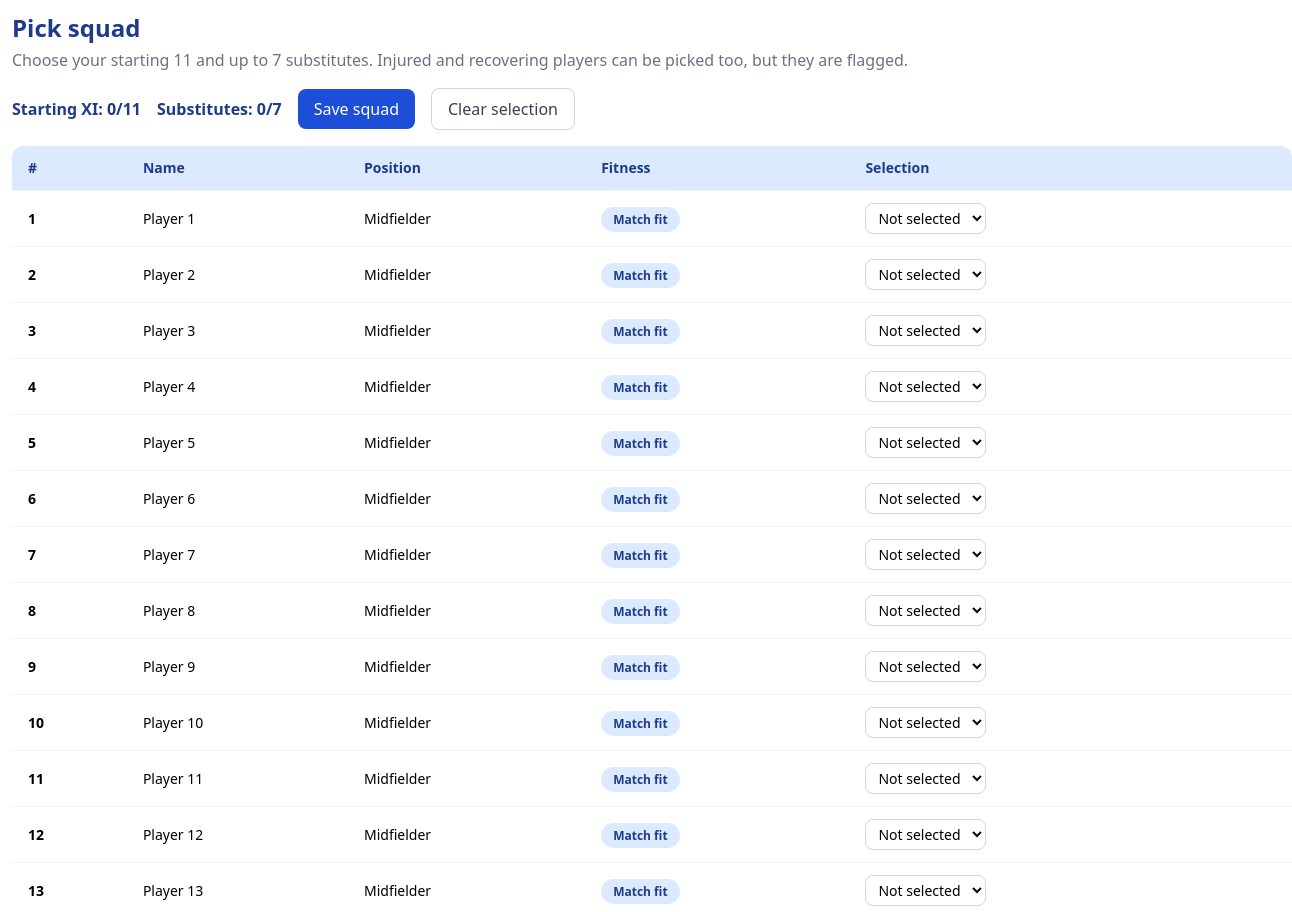
a player moves between starting and substitute
This screenshot has width=1292, height=912.
Expected: the text "Player 1" is shown, [127, 190, 348, 246]
Select "Starting XI" in the dropdown named "Selection for Player 1" at (926, 218), box [865, 203, 986, 234]
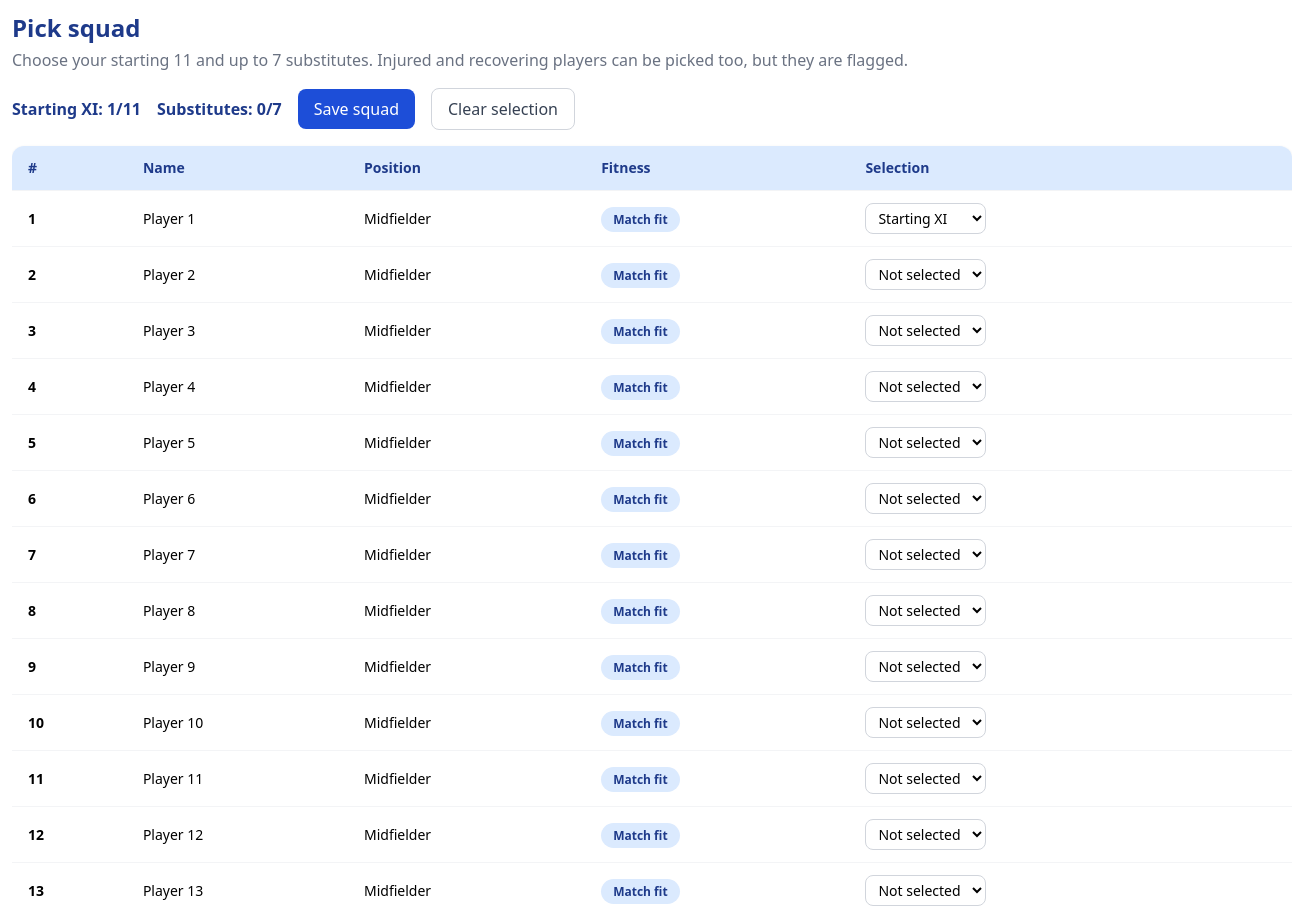
Select "Substitute" in the dropdown named "Selection for Player 1" at (926, 218), box [865, 203, 986, 234]
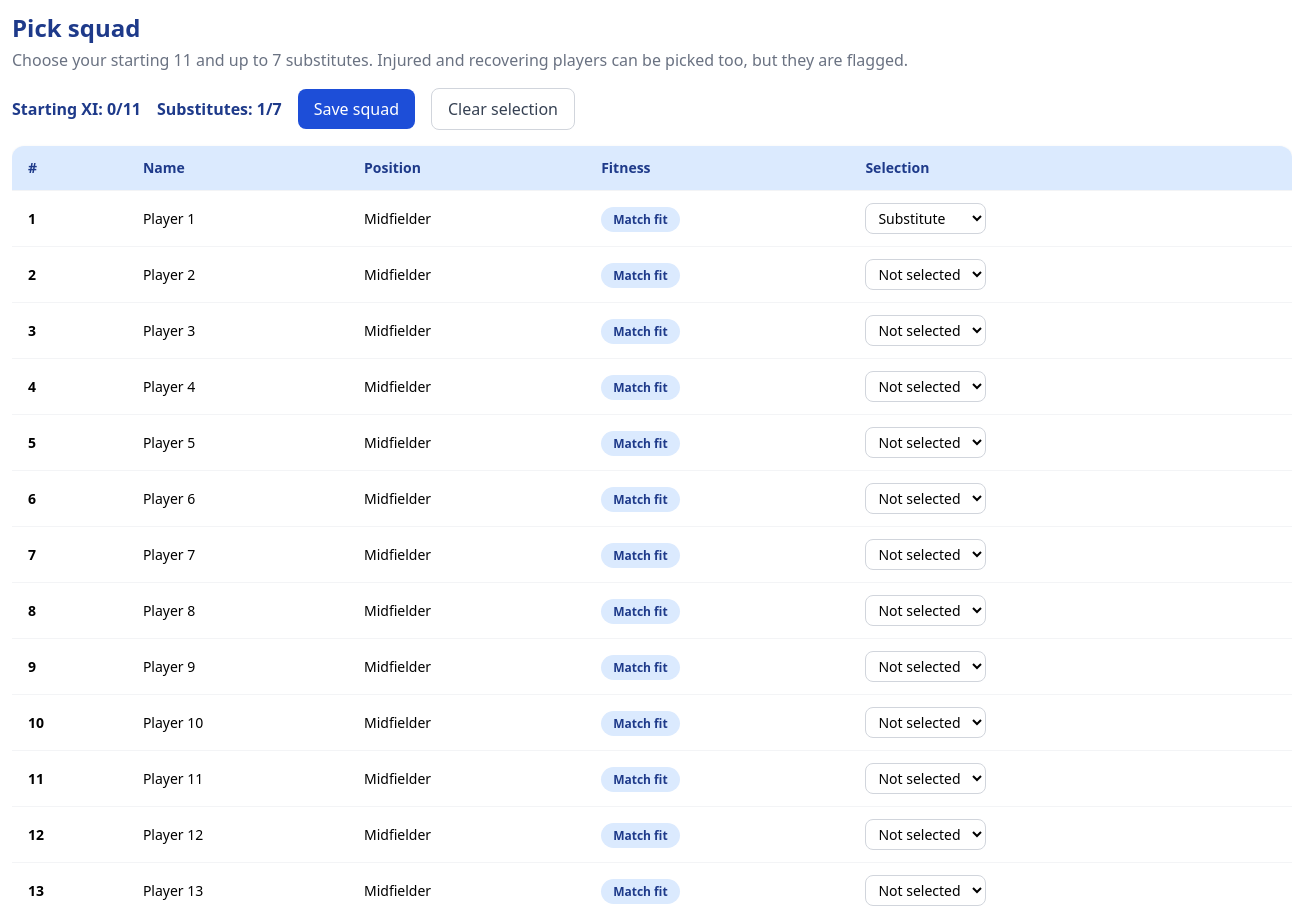
Now the text "Starting XI: 0/11" is shown, box [12, 97, 141, 121]
Now the text "Substitutes: 1/7" is shown, box [157, 97, 282, 121]
